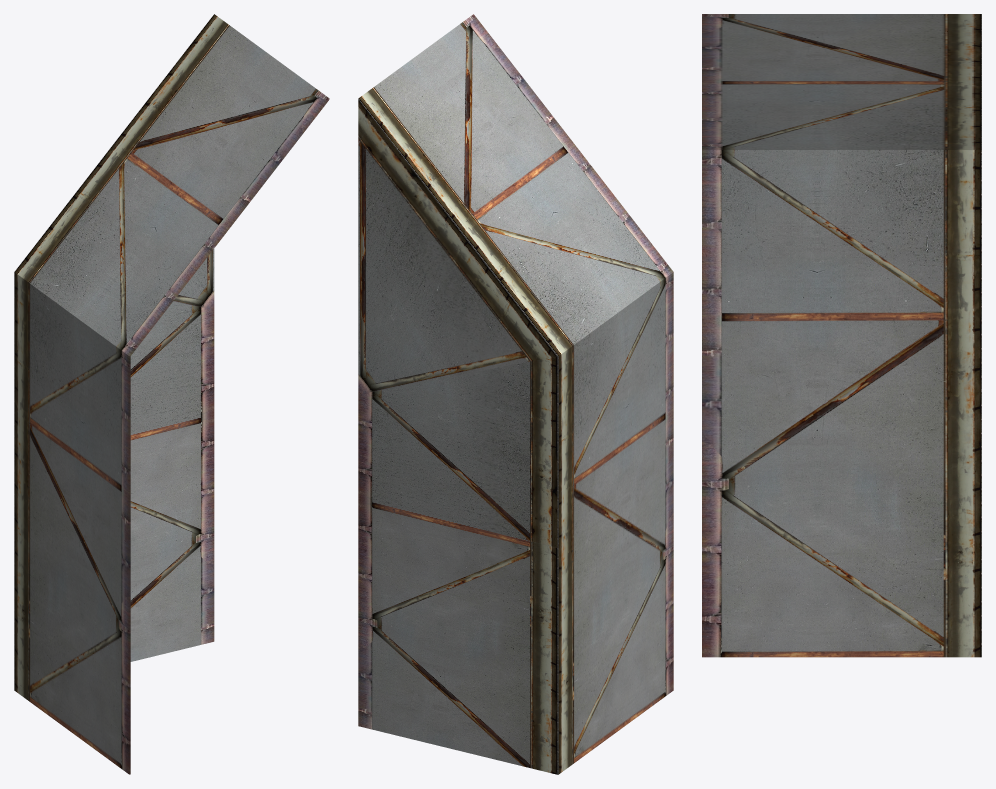
The model's file is Wall_Girders_Giant10mts_03.fbx.
3 views of the same model, side by side, from view 1: azimuth 30°, elevation 25°; view 2: azimuth 150°, elevation 25°; view 3: azimuth 270°, elevation 25° (orthographic). The views are drawn at different scales.
Parts seen in each view (by area): view 1: Wall_Girders_Giant10mts_03; view 2: Wall_Girders_Giant10mts_03; view 3: Wall_Girders_Giant10mts_03.
Boxes of the visible parts, x1=… form: Wall_Girders_Giant10mts_03: x1=14, y1=14, x2=329, y2=774; Wall_Girders_Giant10mts_03: x1=358, y1=14, x2=673, y2=774; Wall_Girders_Giant10mts_03: x1=702, y1=14, x2=981, y2=657.
Bounding box in the file's own units: 500 × 1500 × 500.
